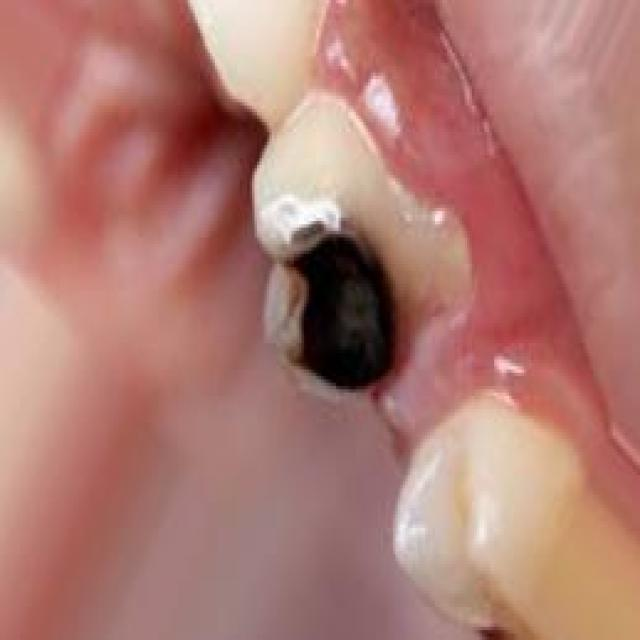caries: (261, 198, 413, 416)
